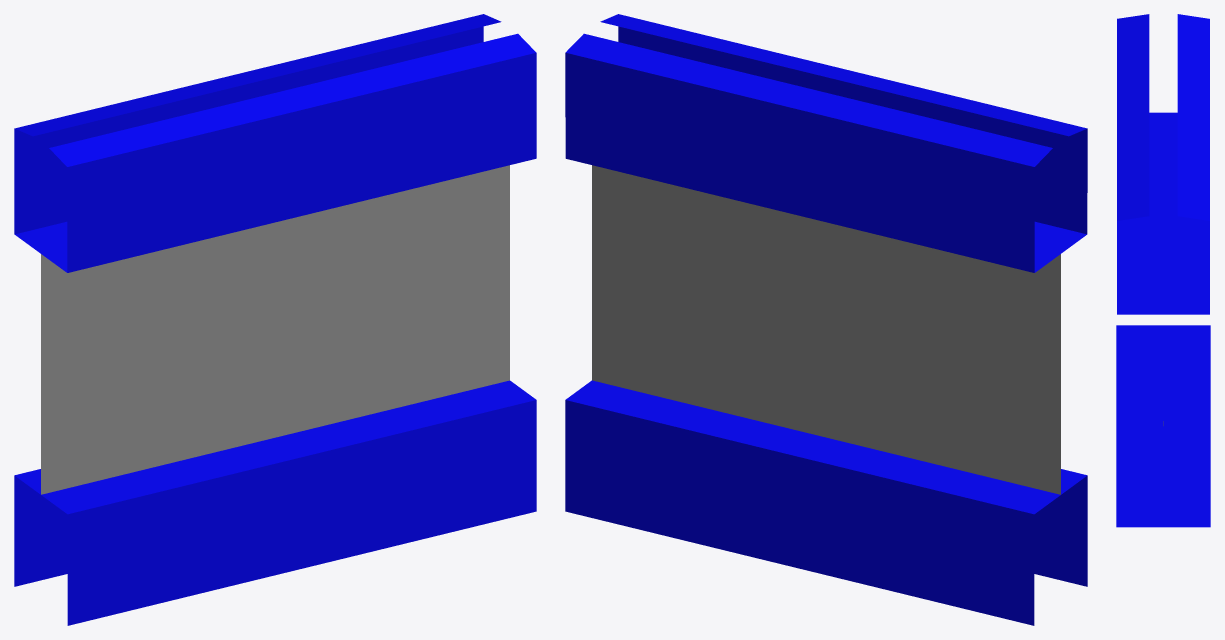
Rendered from Wall Center.FBX.
The picture shows the model from 3 angles, left to right: view 1: azimuth 30°, elevation 25°; view 2: azimuth 150°, elevation 25°; view 3: azimuth 270°, elevation 25°; orthographic projection. The views are drawn at different scales.
Visible parts, largest first — view 1: Door:Door:Window_Side1_Window_Side1_Window_Side1_Window_Side; view 2: Door:Door:Window_Side1_Window_Side1_Window_Side1_Window_Side; view 3: Door:Door:Window_Side1_Window_Side1_Window_Side1_Window_Side.
Part boxes in pixels (x1,y1,x2,y2): Door:Door:Window_Side1_Window_Side1_Window_Side1_Window_Side: [14, 14, 536, 625]; Door:Door:Window_Side1_Window_Side1_Window_Side1_Window_Side: [565, 14, 1087, 625]; Door:Door:Window_Side1_Window_Side1_Window_Side1_Window_Side: [1116, 14, 1210, 527].
Bounding box in the file's own units: 400 × 378 × 78.74.
